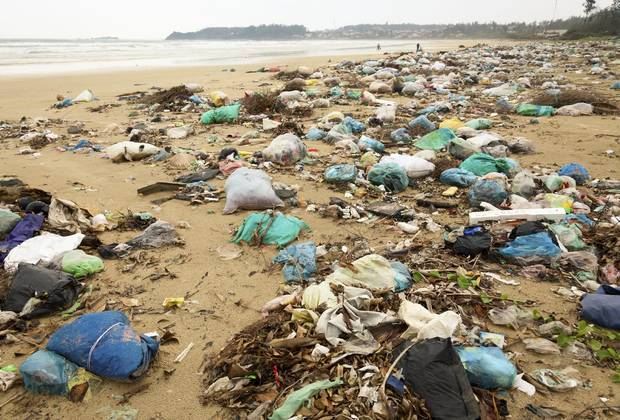litter: (230, 255, 422, 308), (43, 305, 166, 383), (390, 334, 484, 420), (311, 288, 398, 358), (456, 338, 546, 400), (4, 260, 90, 320), (1, 223, 89, 276), (390, 294, 467, 348), (262, 374, 343, 420), (227, 205, 308, 249), (221, 166, 292, 213), (93, 219, 190, 252), (331, 107, 389, 159), (469, 201, 567, 227), (571, 281, 620, 329), (267, 242, 323, 281), (94, 142, 171, 167), (367, 159, 415, 199), (261, 136, 315, 164), (436, 158, 482, 190), (415, 127, 462, 157), (515, 95, 558, 126), (51, 87, 101, 112), (319, 158, 360, 187), (468, 179, 510, 204), (557, 155, 596, 181), (197, 103, 246, 122), (301, 111, 327, 141), (203, 88, 239, 109), (64, 135, 105, 153), (373, 96, 397, 124), (459, 118, 496, 135), (407, 111, 435, 132), (369, 80, 395, 92)
